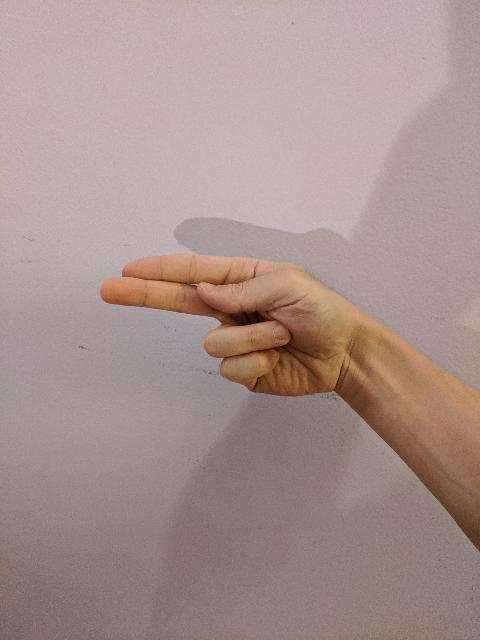H: (94, 249, 358, 403)
